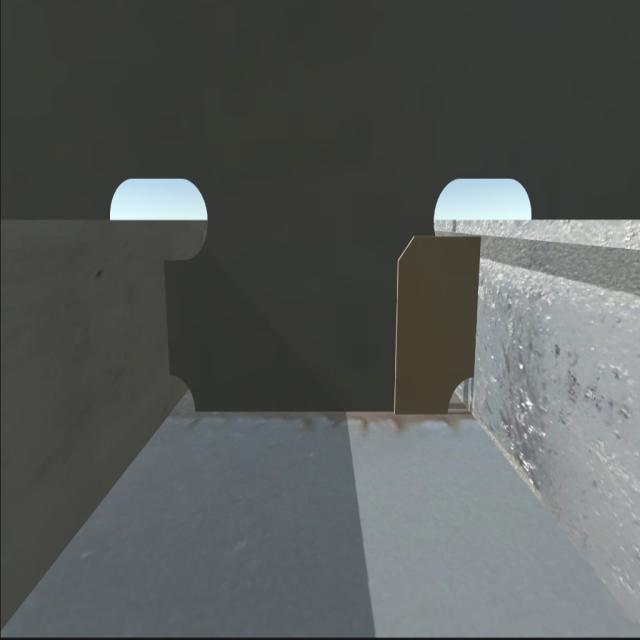fillet_hole: (167, 369, 200, 418), (446, 369, 477, 416)
fillet_yong_jeop_jang: (192, 404, 451, 426)
longi_yong_jeop_jang: (469, 233, 487, 378), (158, 260, 178, 376)
plate_CP03: (394, 228, 477, 420)
